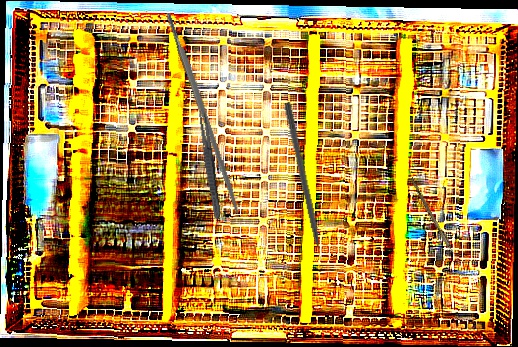Dressing Forceps: (195, 108, 224, 221)
Pusher: (282, 101, 327, 274)
Scalpel Handle: (164, 11, 243, 214)
Surgical Spoon: (408, 177, 466, 272)
